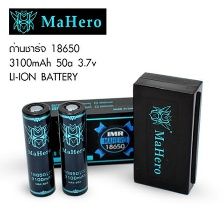battery: (20, 100, 57, 199), (56, 99, 89, 198)
book: (29, 93, 181, 171), (127, 67, 206, 199)
